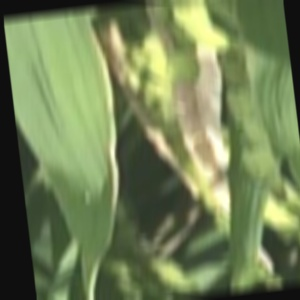Leaf_Blast: (28, 26, 115, 210)
